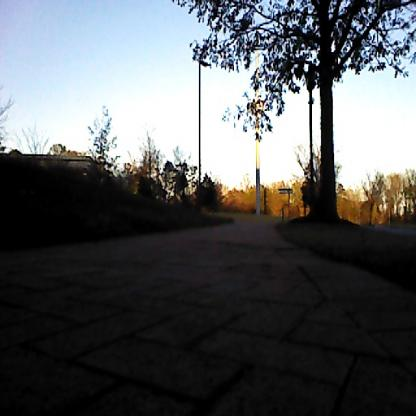Edge: (282, 226, 416, 316)
Sidewalk: (0, 220, 416, 416)
